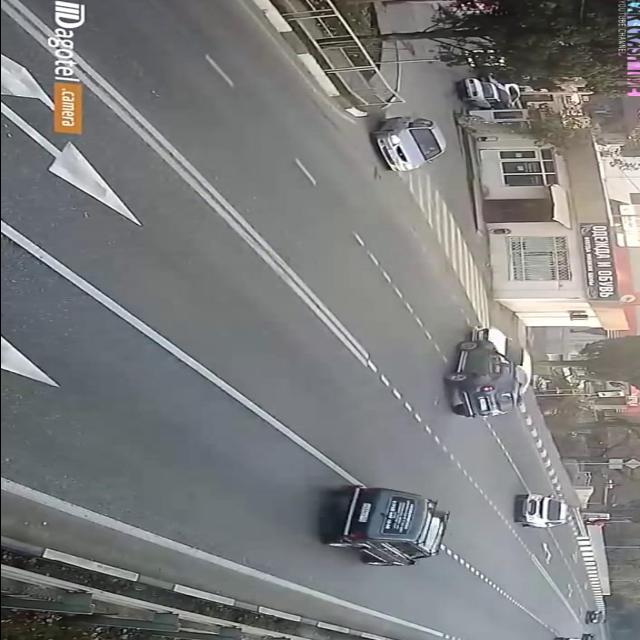accident: (440, 327, 544, 421)
